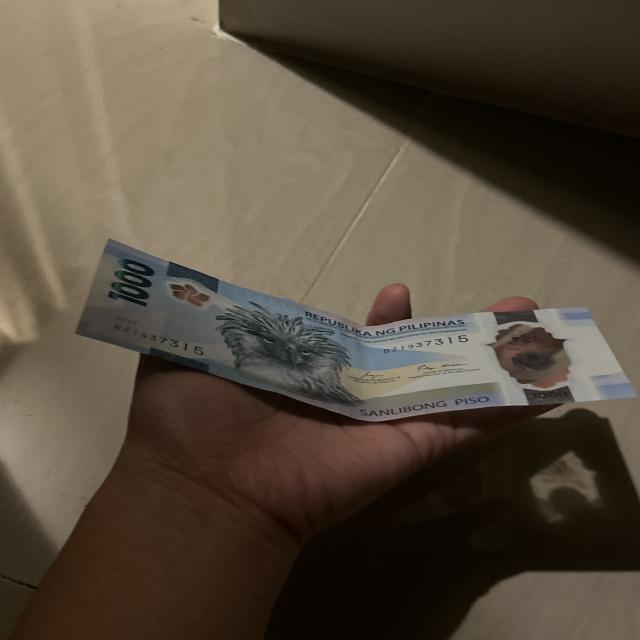clear_window: (482, 311, 572, 398)
eagle: (220, 301, 354, 408)
sampaguita: (169, 278, 206, 310)
serial_number: (100, 324, 208, 357), (375, 334, 472, 352)
